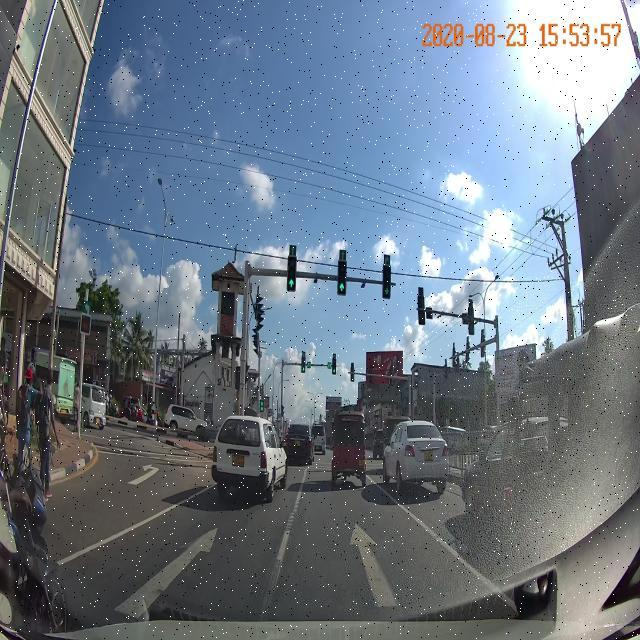forward: (250, 514, 499, 616)
